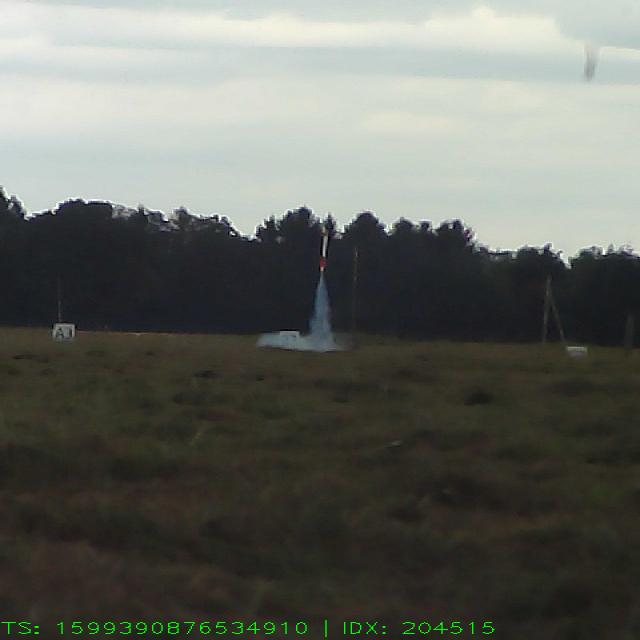Rocket: (319, 230, 329, 272)
